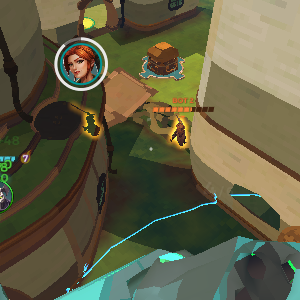model: (163, 116, 192, 152), (78, 108, 104, 139)
